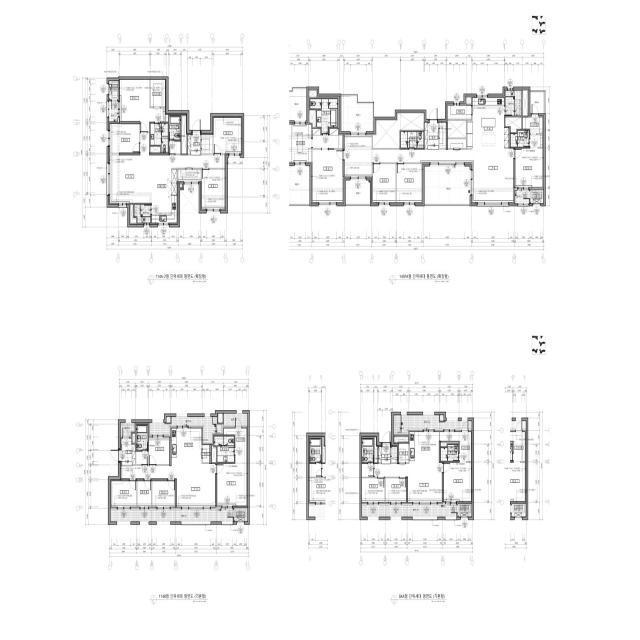space_balconi: (149, 417, 222, 445), (425, 166, 470, 204), (111, 508, 233, 522), (394, 415, 472, 433), (362, 504, 457, 517), (341, 96, 374, 131), (346, 180, 370, 204), (506, 91, 521, 116), (224, 413, 247, 427), (134, 205, 151, 223), (530, 92, 544, 113), (121, 422, 135, 437), (109, 101, 118, 122), (515, 191, 529, 204)
space_bedroom: (120, 80, 165, 132), (312, 150, 343, 202), (515, 135, 543, 187), (217, 464, 247, 506), (444, 463, 471, 501), (214, 117, 242, 153), (397, 164, 422, 202), (202, 170, 226, 209), (373, 164, 396, 202), (110, 124, 139, 153), (111, 481, 136, 507), (152, 481, 175, 507), (362, 478, 385, 502), (149, 437, 169, 464), (386, 478, 406, 502)
space_dressroom: (440, 432, 471, 463), (223, 428, 247, 464), (289, 124, 311, 162), (150, 80, 165, 107), (523, 117, 543, 134)
space_front: (425, 123, 439, 150), (121, 439, 135, 466), (188, 133, 201, 155), (378, 447, 391, 464)
space_kitchen: (467, 98, 509, 149), (152, 169, 177, 223), (171, 428, 202, 465), (409, 432, 439, 463)
space_living_room: (344, 135, 514, 202), (110, 133, 226, 203), (121, 464, 215, 507), (374, 463, 442, 502)
space_other: (373, 113, 424, 148), (313, 129, 343, 148), (137, 481, 151, 507), (448, 120, 466, 138), (448, 106, 472, 119), (178, 169, 201, 181), (505, 117, 522, 132), (202, 134, 213, 153), (182, 116, 187, 154), (399, 444, 408, 463), (448, 139, 466, 148), (169, 141, 181, 154), (362, 464, 374, 477), (440, 123, 446, 148), (136, 452, 148, 464), (523, 90, 528, 116), (309, 110, 316, 127), (130, 205, 136, 223), (203, 445, 209, 463), (391, 447, 397, 463), (441, 442, 459, 447), (394, 437, 408, 443), (212, 445, 216, 462), (375, 437, 377, 463), (309, 91, 316, 98), (218, 414, 223, 423), (466, 97, 471, 104), (132, 434, 135, 443), (166, 417, 170, 423), (166, 114, 168, 122), (180, 184, 182, 187)
space_outdoor_room: (234, 508, 247, 522), (458, 504, 472, 517), (109, 81, 118, 100), (530, 190, 543, 203)
space_toilet: (310, 99, 337, 134), (150, 124, 168, 153), (214, 436, 234, 462), (401, 132, 424, 148), (136, 425, 148, 450), (169, 116, 181, 141), (511, 131, 529, 147), (441, 445, 458, 461), (362, 439, 373, 462)
